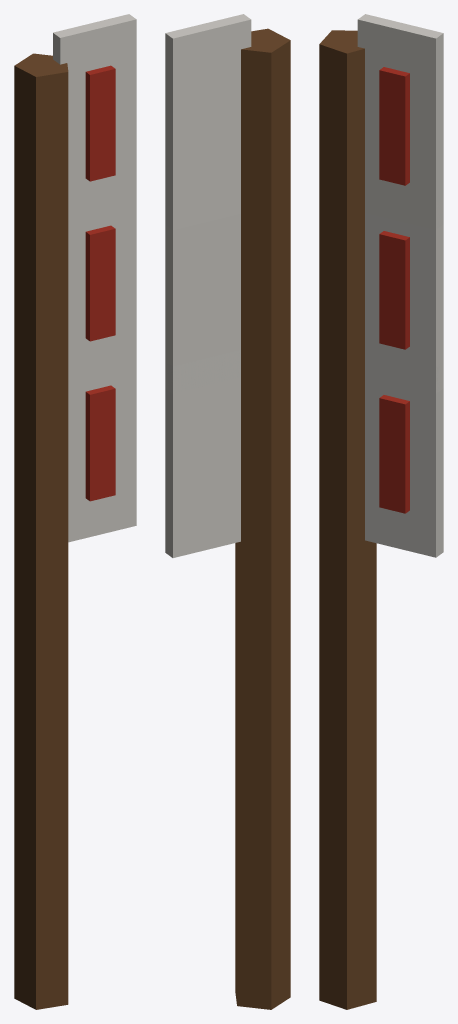
File: gear_ofuda.glb
3 renders of one model, left to right at view 1: azimuth 30°, elevation 25°; view 2: azimuth 210°, elevation 25°; view 3: azimuth 330°, elevation 25°, orthographic. The views are drawn at different scales.
Parts seen in each view (by area): view 1: gear_ofuda; view 2: gear_ofuda; view 3: gear_ofuda.
Part boxes in pixels (<box>): gear_ofuda: <box>14,14,136,1009</box>; gear_ofuda: <box>165,14,290,1009</box>; gear_ofuda: <box>319,14,443,1009</box>.
Bounding box in the file's own units: 0.0527 × 0.432 × 0.0225.
